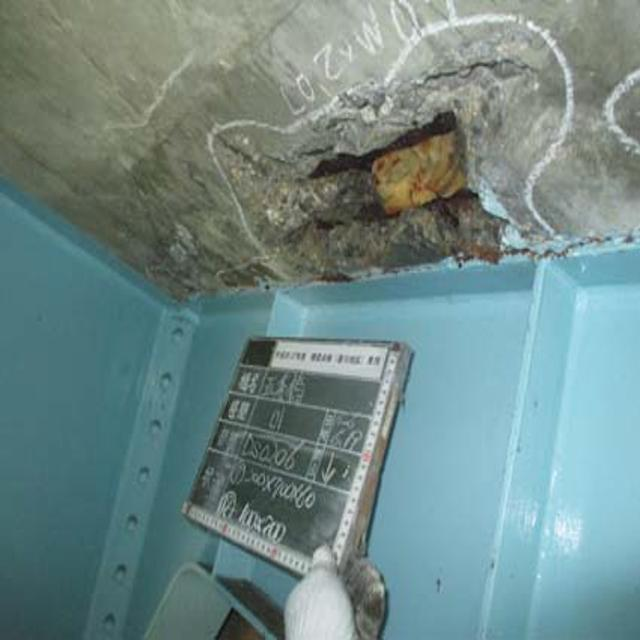spalling: (210, 45, 563, 282)
